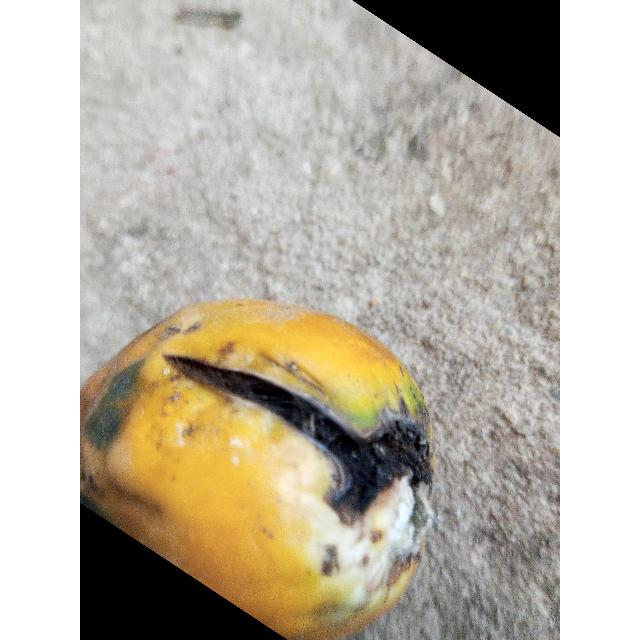damaged: (80, 298, 433, 640)
